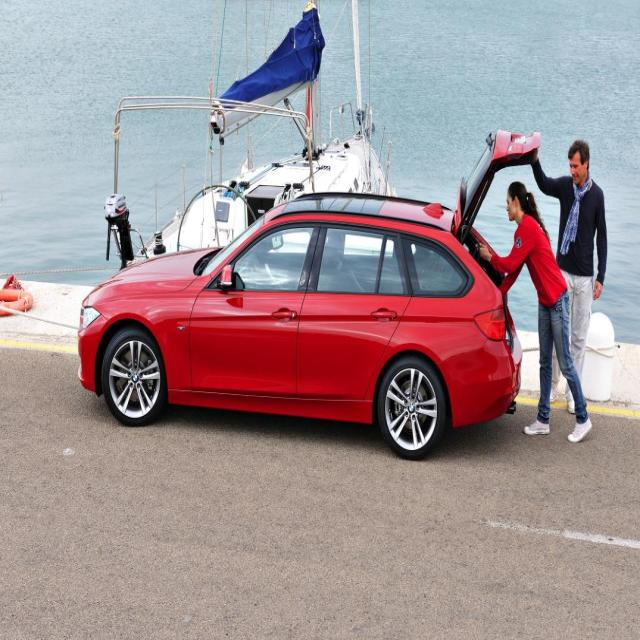Car: (78, 151, 514, 460)
